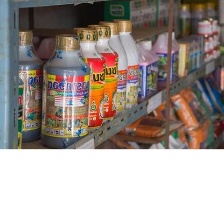insecticide: (38, 31, 93, 150), (0, 26, 46, 145), (61, 24, 108, 135), (76, 22, 121, 129), (89, 18, 131, 125), (103, 16, 142, 118), (146, 30, 181, 92), (130, 38, 161, 106)
